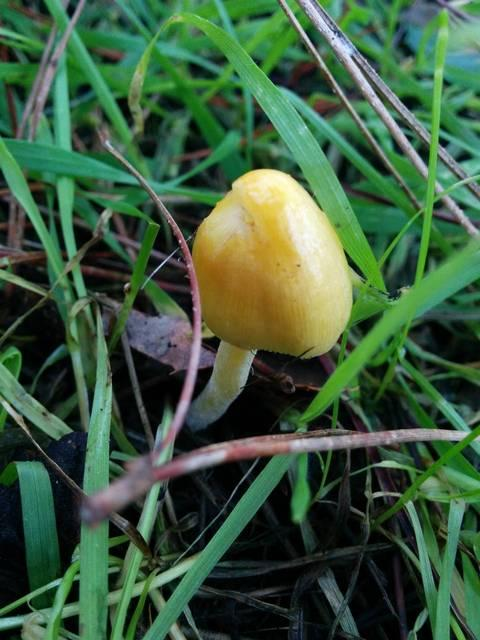edible_mushroom: (182, 166, 354, 431)
